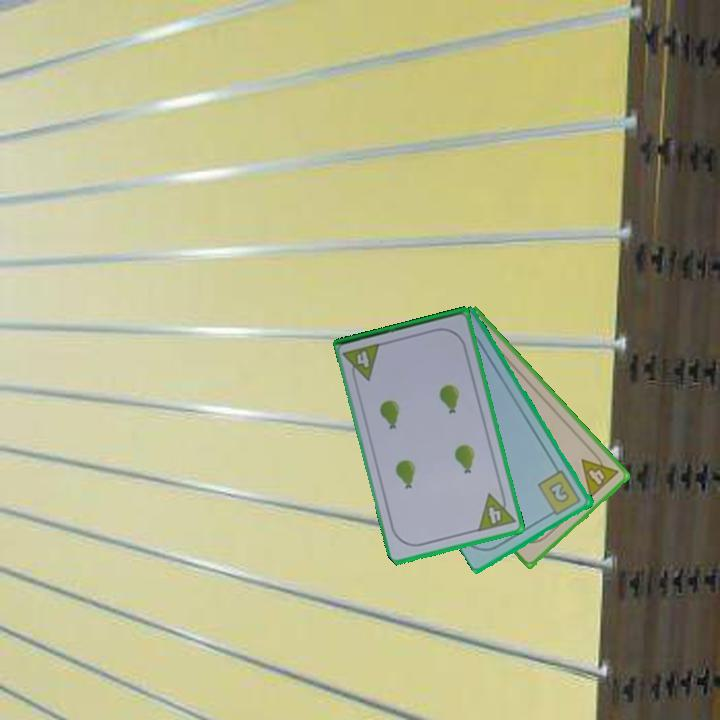2b: (535, 467, 584, 519)
4p: (578, 446, 622, 501), (474, 487, 518, 534), (341, 339, 384, 386)
